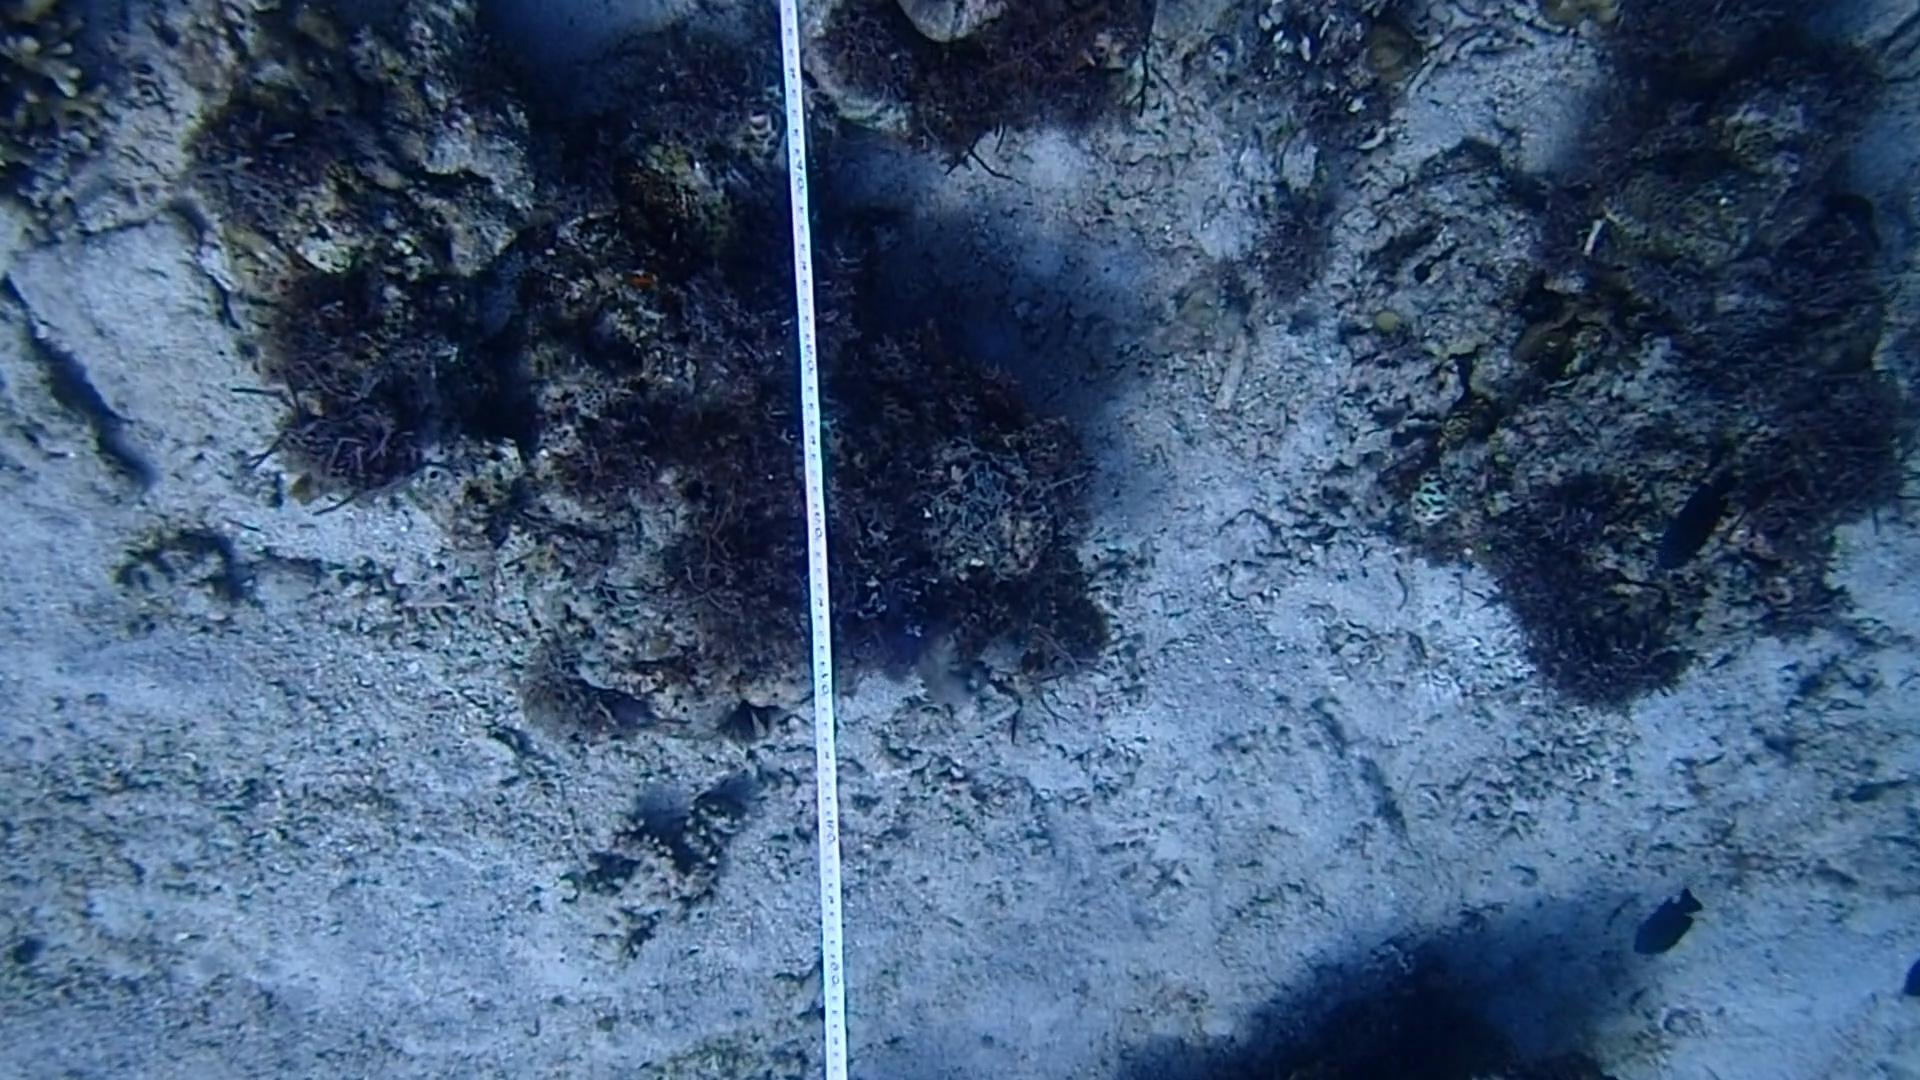Dark Fish: (1646, 462, 1735, 583), (1622, 880, 1710, 971)
